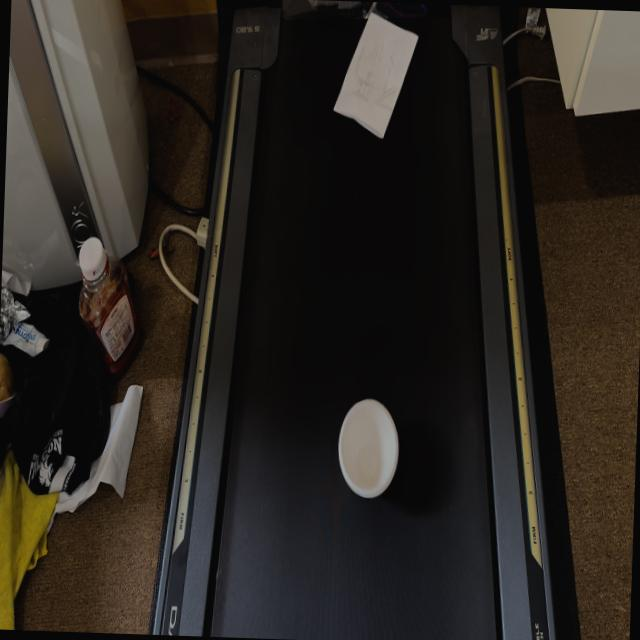Recycle: (330, 11, 420, 144), (336, 394, 402, 501)
